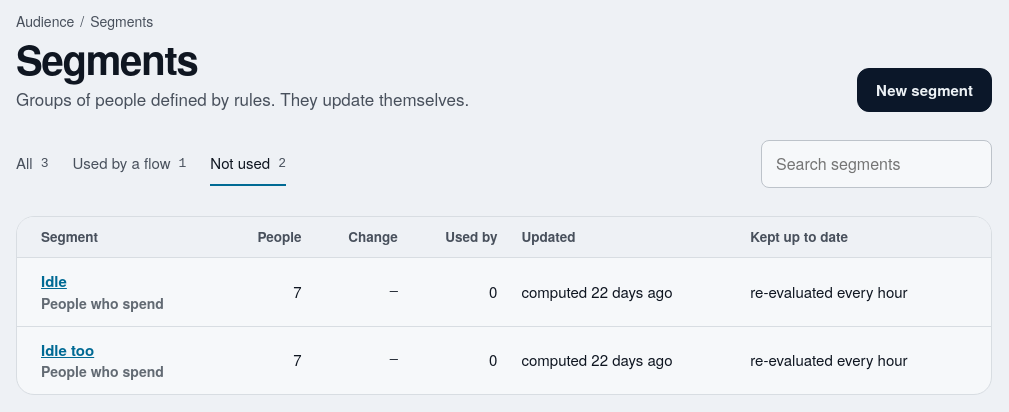
Test case: segments list › filters to segments used by a flow or not, with counts, in the URL
This screenshot has width=1009, height=412.
Check: the number of rows is 3, box top-left (17, 217), bottom-right (991, 257); top-left (17, 258), bottom-right (991, 326); top-left (17, 326), bottom-right (991, 394)
Click the link "Used by a flow 1".
click(129, 163)  # box top-left (72, 152), bottom-right (186, 173)
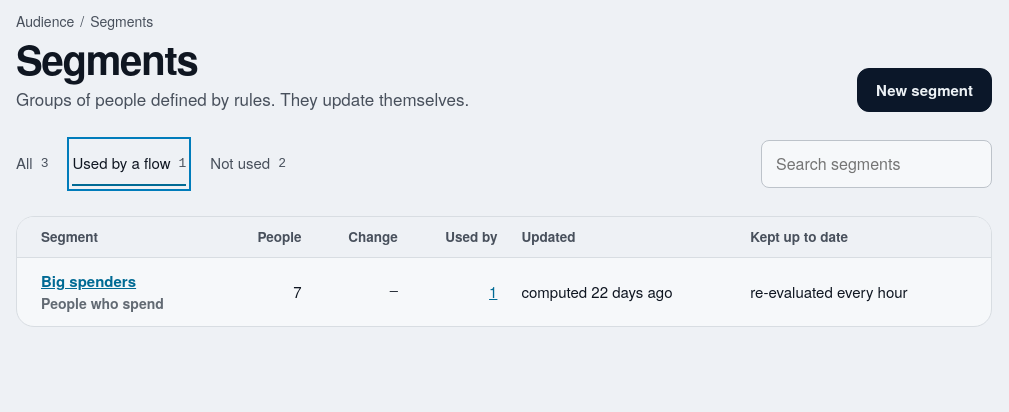
Check: the number of rows is 2, box top-left (17, 217), bottom-right (991, 257); top-left (17, 258), bottom-right (991, 326)
